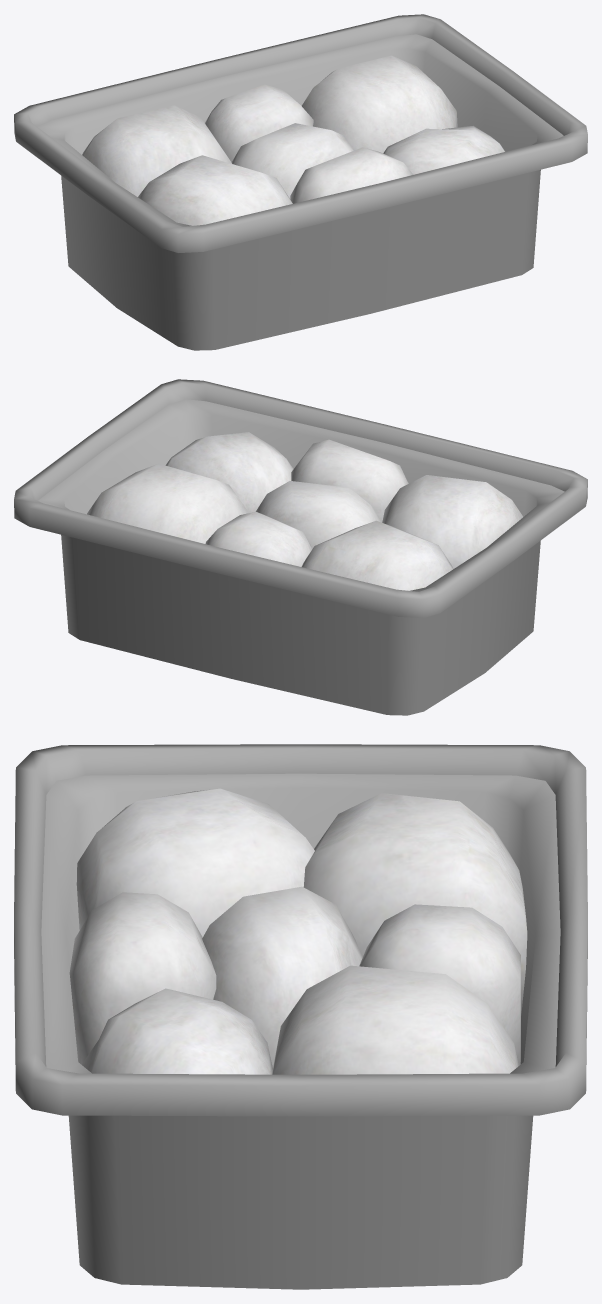
Rendered from gauze.fbx.
The picture shows the model from 3 angles, top to bottom: view 1: azimuth 30°, elevation 25°; view 2: azimuth 150°, elevation 25°; view 3: azimuth 270°, elevation 25°; orthographic projection. The views are drawn at different scales.
Visible parts, largest first — view 1: GauzeTrayFull, cotton; view 2: GauzeTrayFull, cotton; view 3: GauzeTrayFull, cotton.
Part boxes in pixels (x1,y1,x2,y2): GauzeTrayFull: (14, 14, 587, 350); cotton: (82, 55, 504, 225); GauzeTrayFull: (14, 379, 587, 715); cotton: (87, 432, 522, 590); GauzeTrayFull: (14, 744, 587, 1289); cotton: (69, 788, 527, 1074).
Size of the model in its own units: 0.1323 by 0.0421 by 0.0939.
